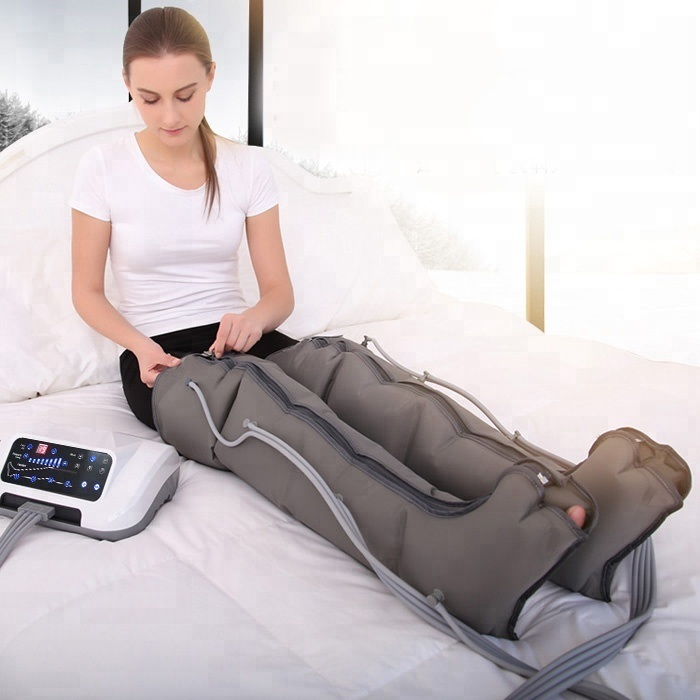patient: (68, 5, 299, 442)
sequential_compression: (6, 336, 693, 700)
